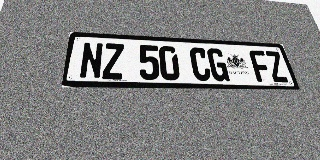0: (158, 46, 180, 81)
5: (139, 45, 160, 80)
C: (189, 47, 212, 81)
F: (248, 50, 273, 82)
G: (206, 48, 230, 81)
N: (79, 42, 103, 79)
Z: (102, 43, 124, 80), (264, 51, 289, 82)
